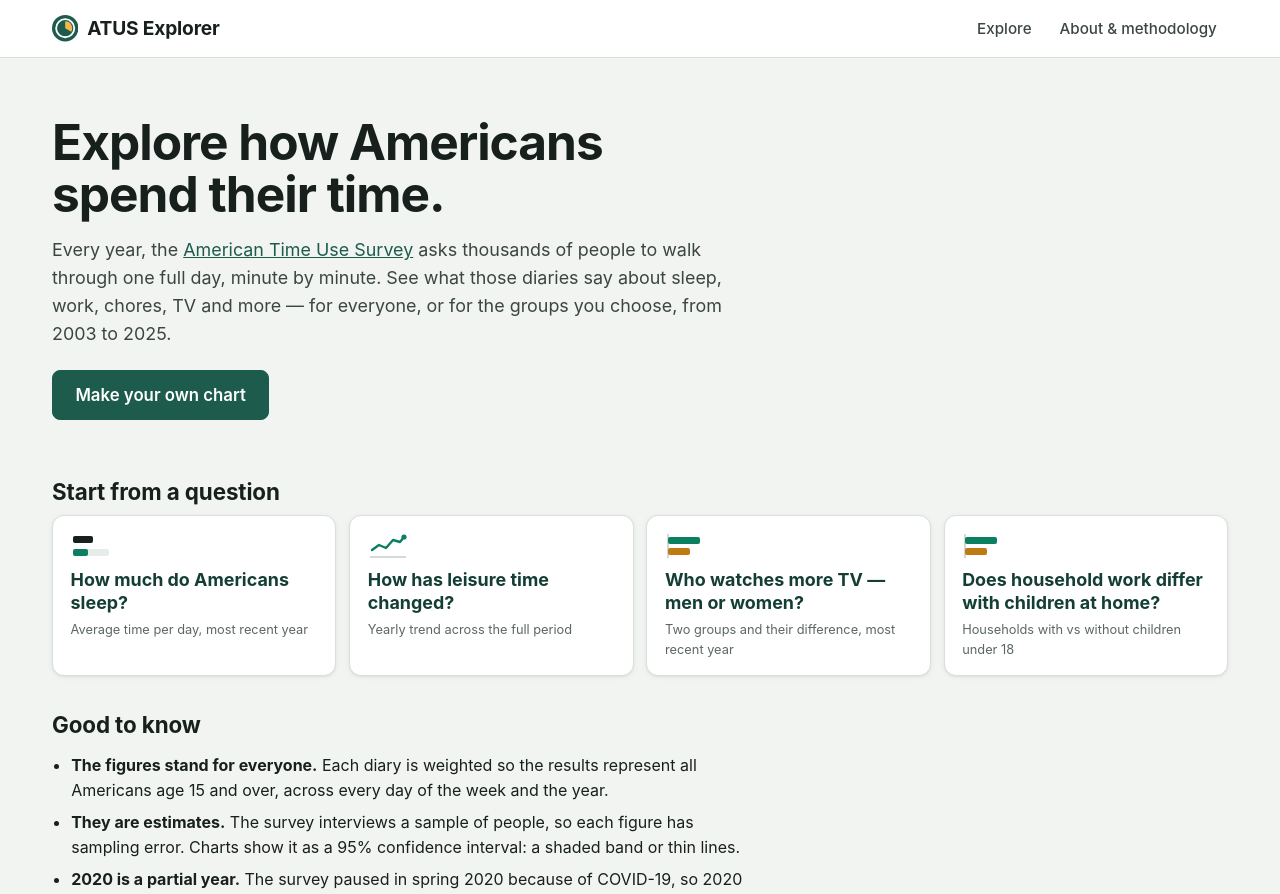
Test: focus after in-app navigation (review round 2) › the canonical URL rewrite (a replace) does not move focus
The image size is (1280, 894).
Click the link "How much do Americans sleep?": x=91, y=546 [52,515,336,676]
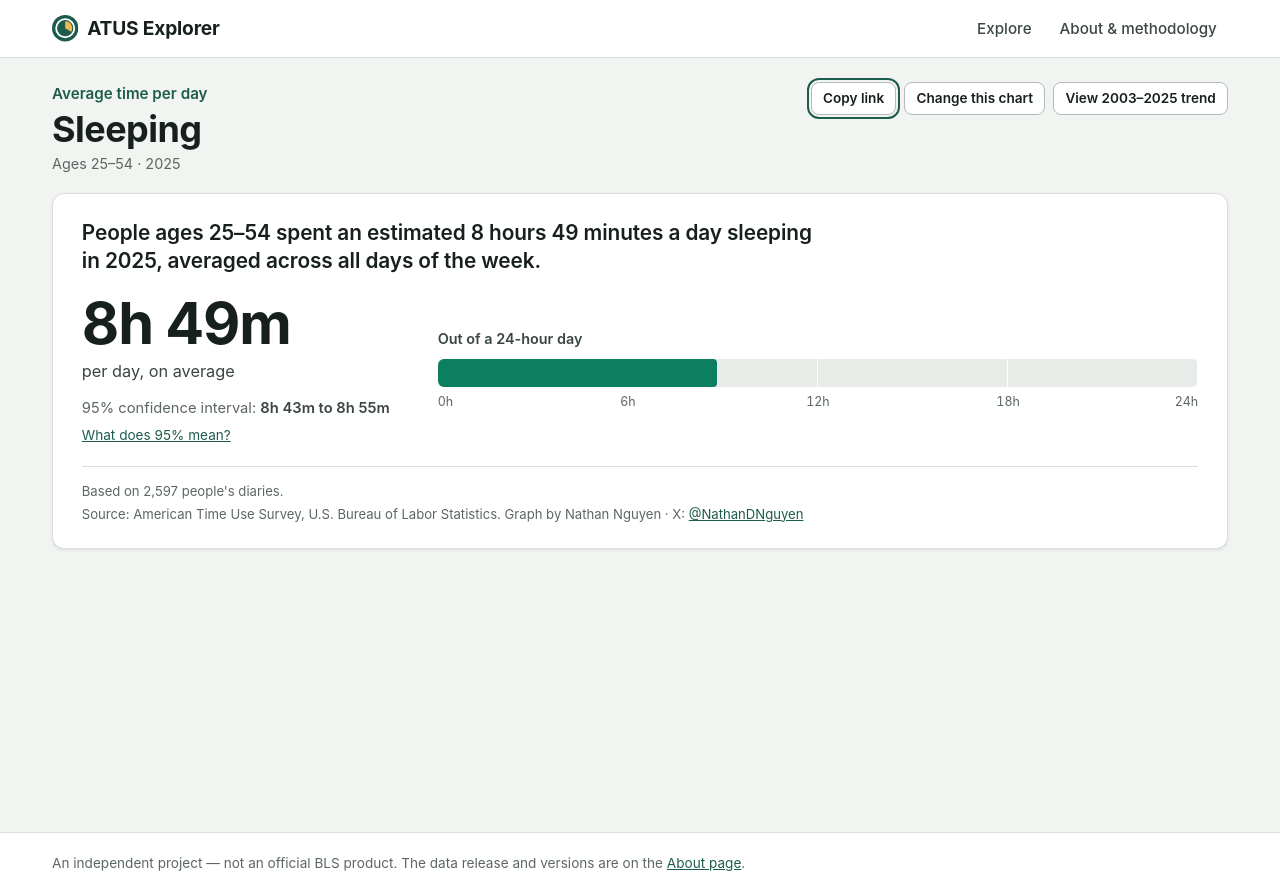
Check: the text "8h 49m" is shown, box [82,288,291,358]
